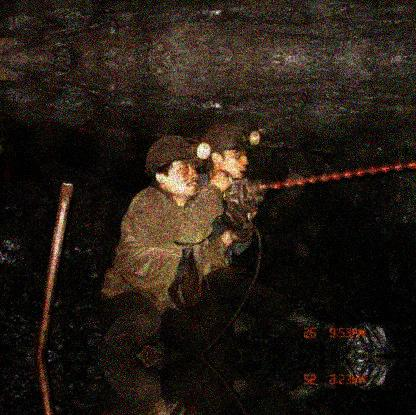helmet: (141, 135, 200, 198), (204, 124, 260, 182)
